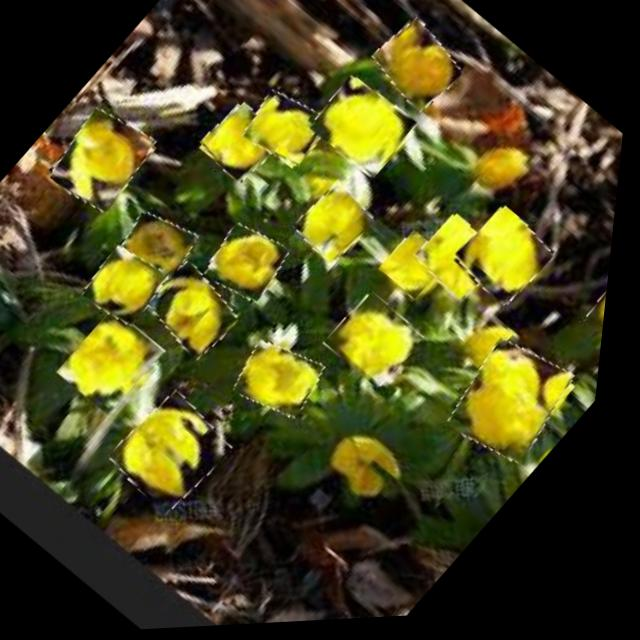Flower: (443, 333, 596, 481), (111, 388, 251, 523), (43, 101, 169, 222), (59, 306, 179, 423), (305, 74, 427, 188), (452, 208, 569, 319), (140, 260, 256, 368), (327, 292, 438, 398), (363, 19, 475, 124), (232, 330, 343, 435), (202, 217, 304, 315), (238, 84, 340, 180), (414, 215, 515, 311), (81, 241, 181, 336), (196, 102, 291, 193), (293, 183, 386, 273), (116, 203, 211, 291), (380, 233, 460, 310), (585, 274, 616, 369)
